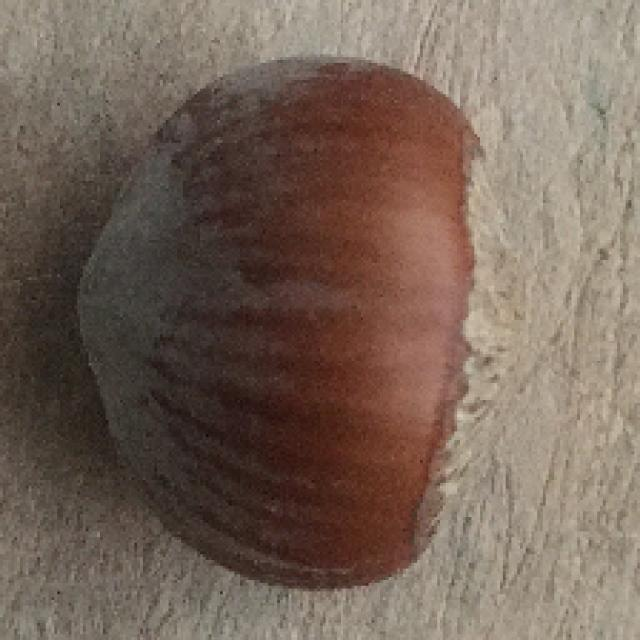qualityHazelnut: (79, 53, 518, 592)
